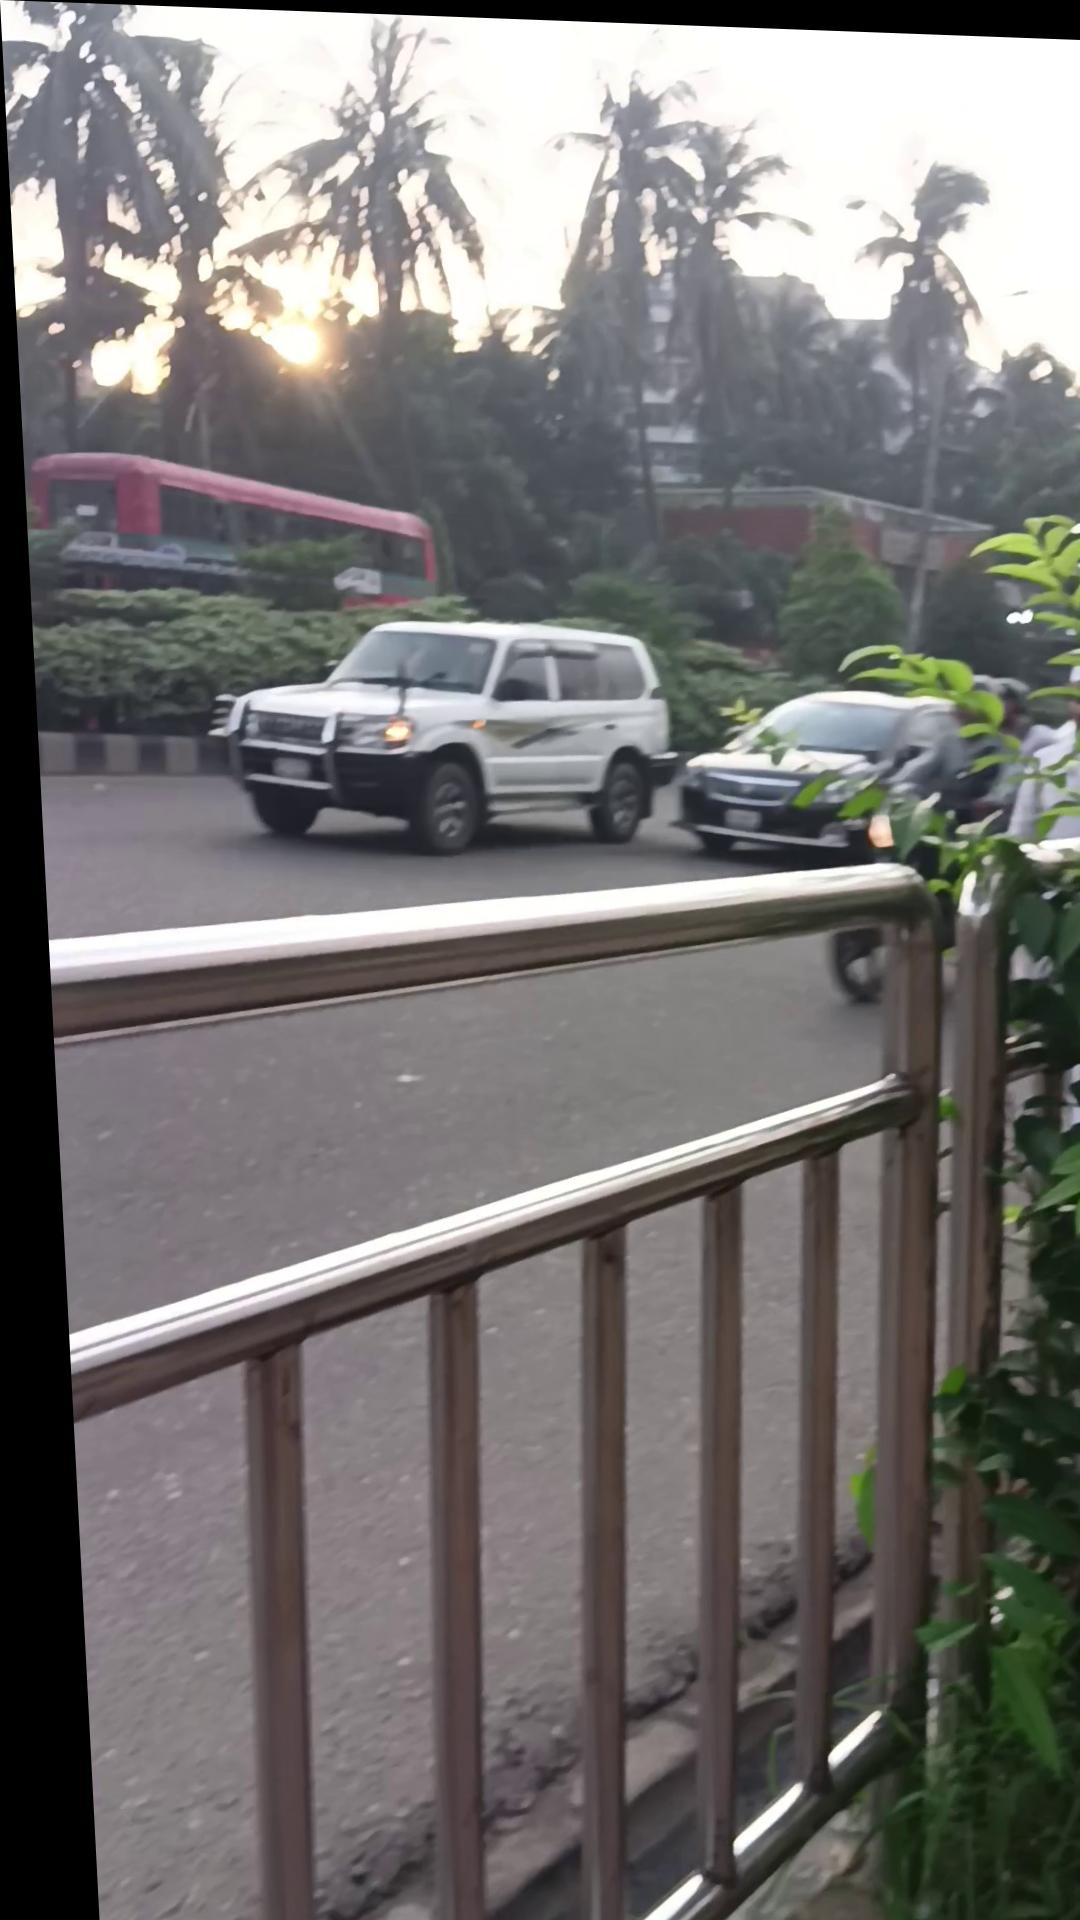Car: (195, 605, 676, 857)
Traffic-sign: (20, 446, 434, 613)
